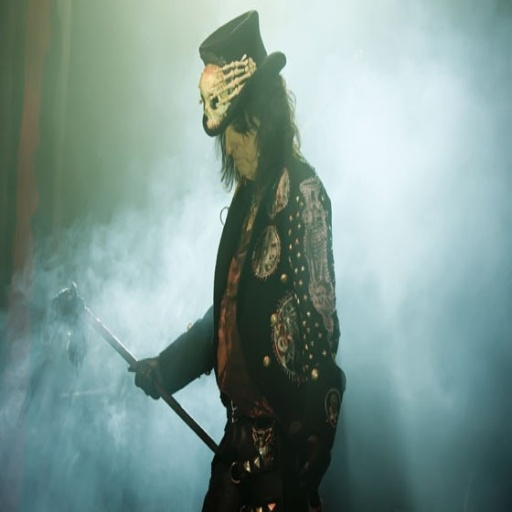hand: (288, 431, 333, 505), (126, 345, 160, 406)
